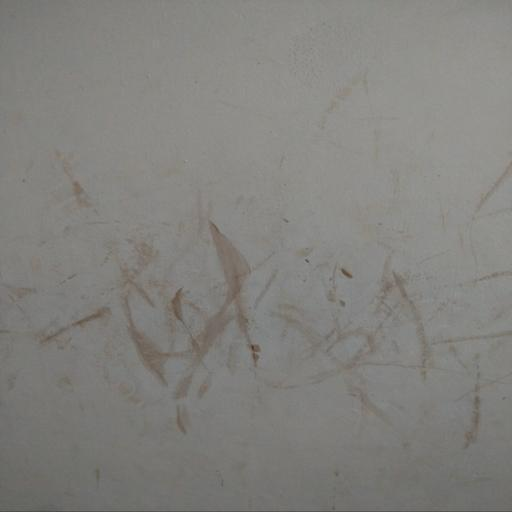stain: (20, 156, 512, 451), (290, 25, 400, 141)
